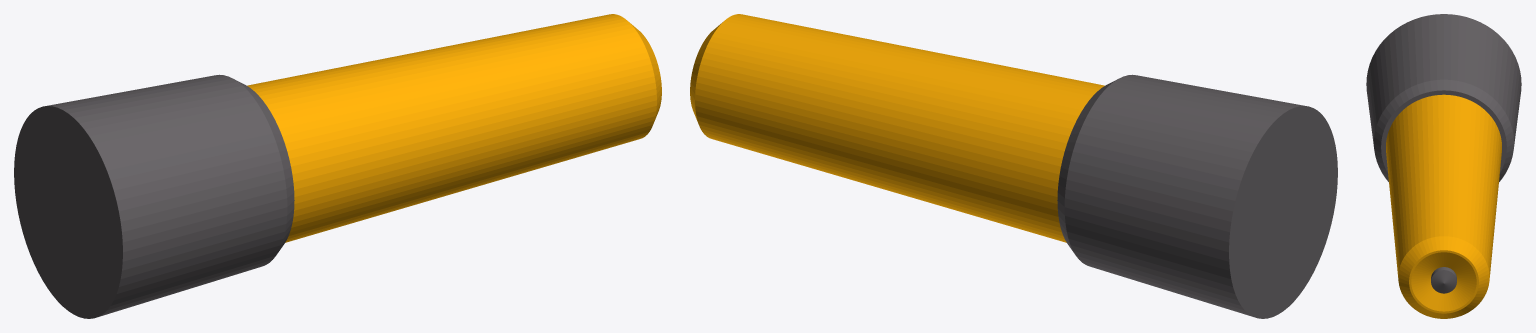
Rendered from hozelock hose nozzle.fbx.
3 renders of one model, left to right at view 1: azimuth 30°, elevation 25°; view 2: azimuth 150°, elevation 25°; view 3: azimuth 270°, elevation 25°, orthographic. The views are drawn at different scales.
Visible parts, largest first — view 1: Cylinder.001, Cylinder; view 2: Cylinder.001, Cylinder; view 3: Cylinder.001, Cylinder, Cylinder.002.
Part boxes in pixels (box(x1,y1,x2,y2)): Cylinder.001: box(247, 14, 661, 242); Cylinder: box(14, 74, 294, 318); Cylinder.001: box(690, 14, 1104, 242); Cylinder: box(1057, 74, 1337, 318); Cylinder.001: box(1386, 94, 1501, 318); Cylinder: box(1366, 14, 1521, 181); Cylinder.002: box(1431, 267, 1456, 293).
Bounding box in the file's own units: 608 × 200 × 200.
